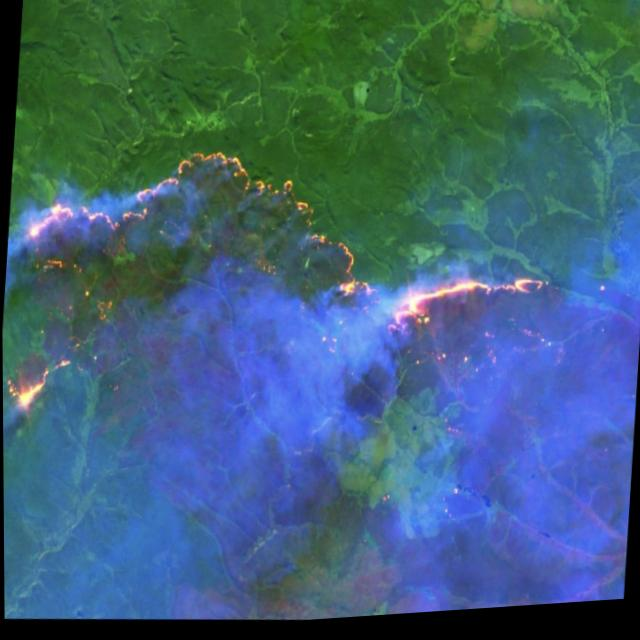fire: (1, 103, 640, 466)
